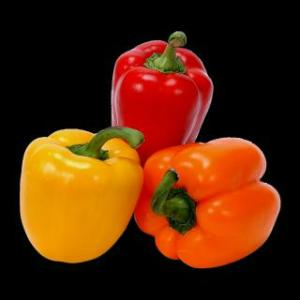bell_pepper: (15, 121, 156, 273), (132, 134, 280, 270), (104, 25, 218, 173)
